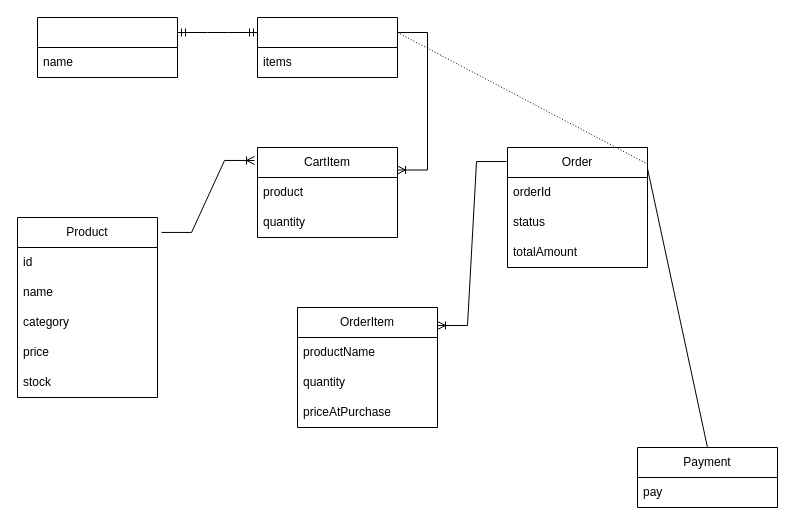
Some shapes in this 795 by 525 pixel diagram are drawn without their labels. Each missing label, with the box of its shape:
Customer: (36, 16, 178, 78)
ShoppingCart: (256, 16, 398, 78)
